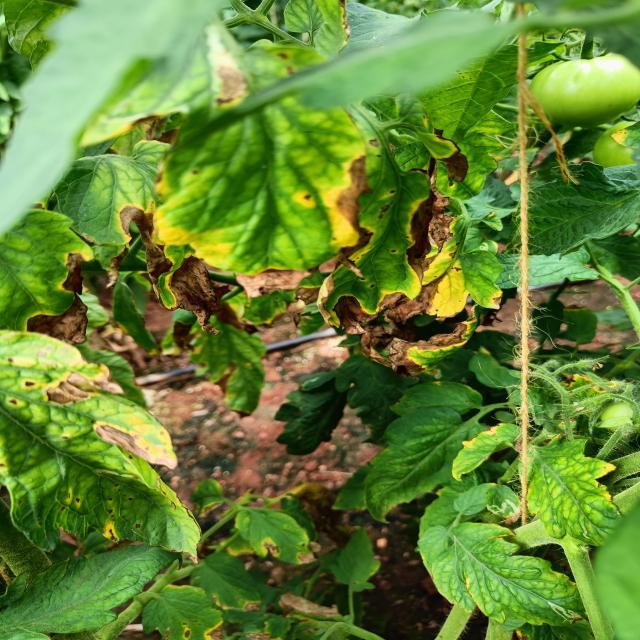Tomato mosaic virus leaf: (331, 224, 509, 378), (2, 456, 210, 566), (66, 168, 150, 290), (1, 245, 93, 354), (139, 238, 227, 340), (138, 584, 232, 640)
